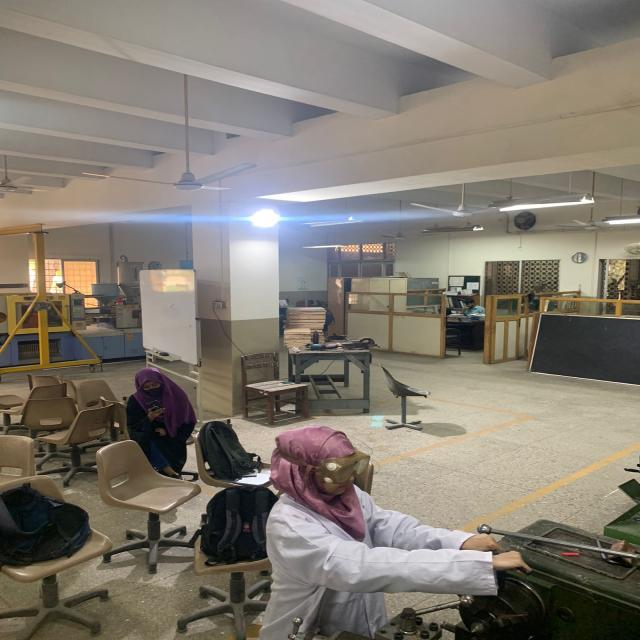googles: (318, 454, 377, 484)
labcoat: (249, 477, 501, 640)
